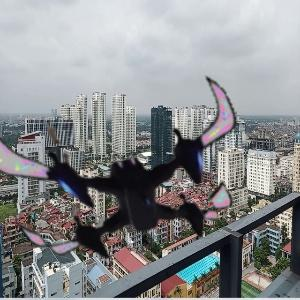drone: (2, 43, 259, 300)
